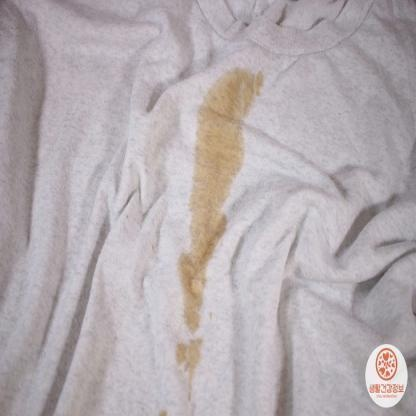coffee: (196, 134, 236, 188), (210, 75, 248, 129), (192, 192, 223, 242), (182, 252, 202, 329)
